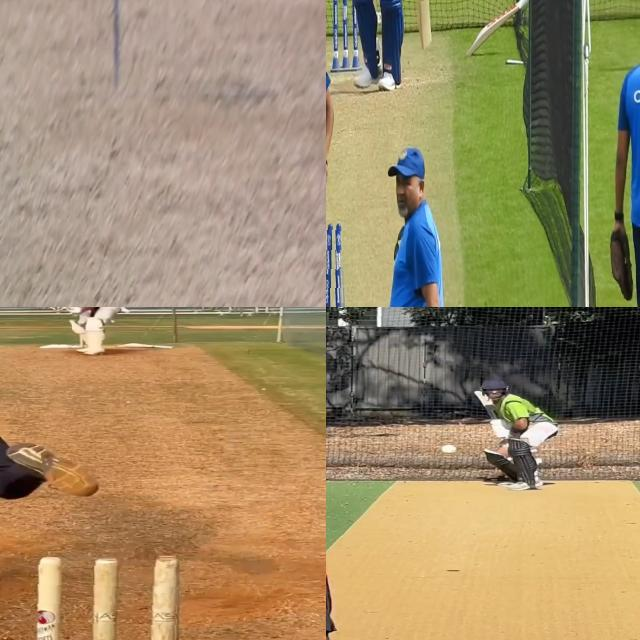Cricket ball: (440, 443, 457, 455)
Stumps: (33, 555, 179, 640), (326, 220, 349, 307), (331, 0, 357, 73)
